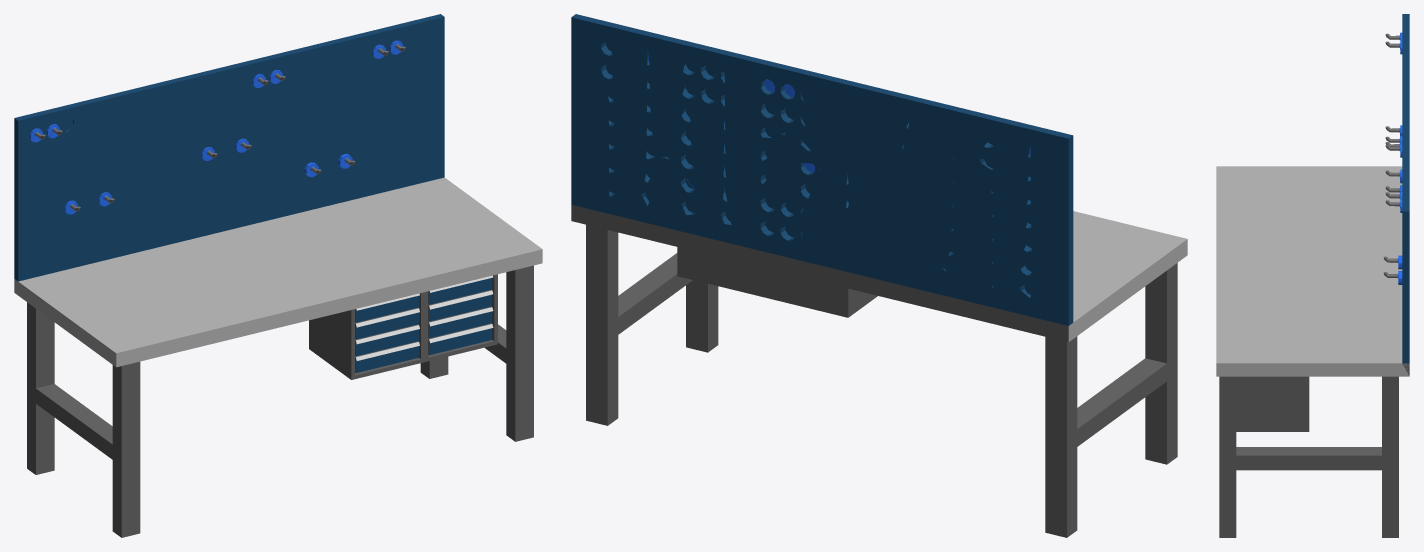
Rendered from workbench.fbx.
The picture shows the model from 3 angles, left to right: view 1: azimuth 30°, elevation 25°; view 2: azimuth 150°, elevation 25°; view 3: azimuth 270°, elevation 25°; orthographic projection. The views are drawn at different scales.
Parts seen in each view (by area): view 1: Workbench; view 2: Workbench; view 3: Workbench.
Part boxes in pixels (x1,y1,x2,y2): Workbench: (14,14,542,537); Workbench: (571,14,1187,537); Workbench: (1216,14,1409,537).
Bounding box in the file's own units: 112 × 87.44 × 46.45.
